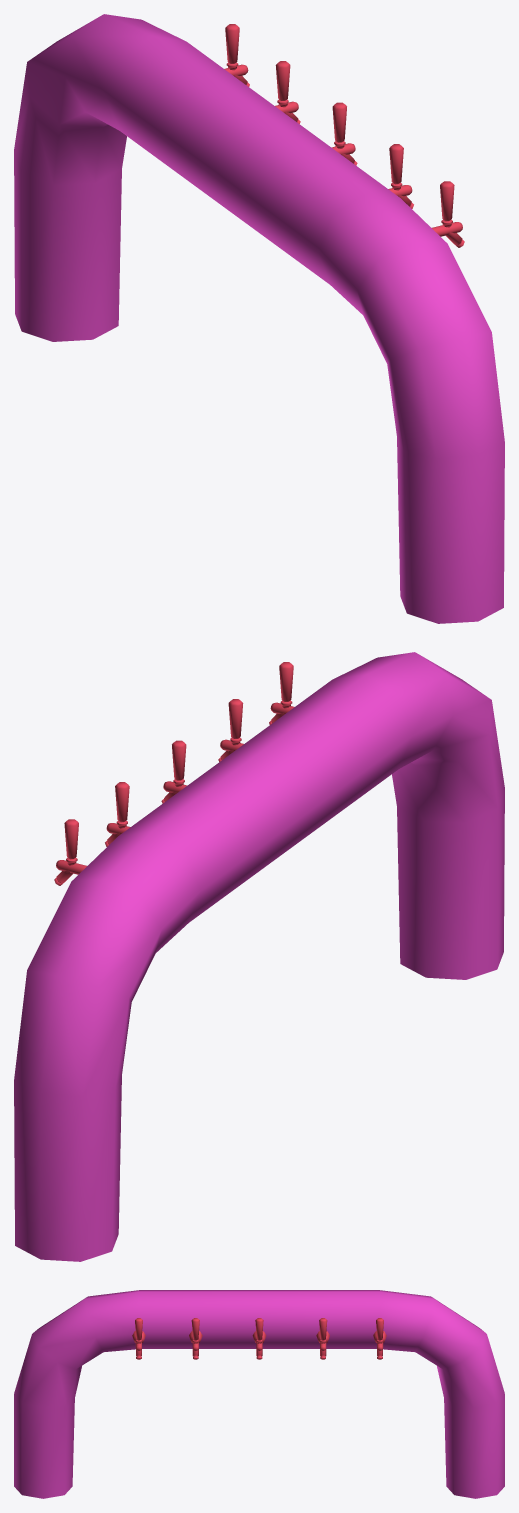
The model's file is BeerTap_mesh 1.fbx.
3 renders of one model, top to bottom at view 1: azimuth 30°, elevation 25°; view 2: azimuth 150°, elevation 25°; view 3: azimuth 270°, elevation 25°, orthographic. The views are drawn at different scales.
Parts seen in each view (by area): view 1: BeerTapTube; view 2: BeerTapTube; view 3: BeerTapTube.
Boxes of the visible parts, left/top/right/bottom form: BeerTapTube: left=14, top=14, right=504, bottom=623; BeerTapTube: left=14, top=652, right=504, bottom=1261; BeerTapTube: left=14, top=1290, right=504, bottom=1498.
Bounding box in the file's own units: 29.51 × 66.89 × 153.
